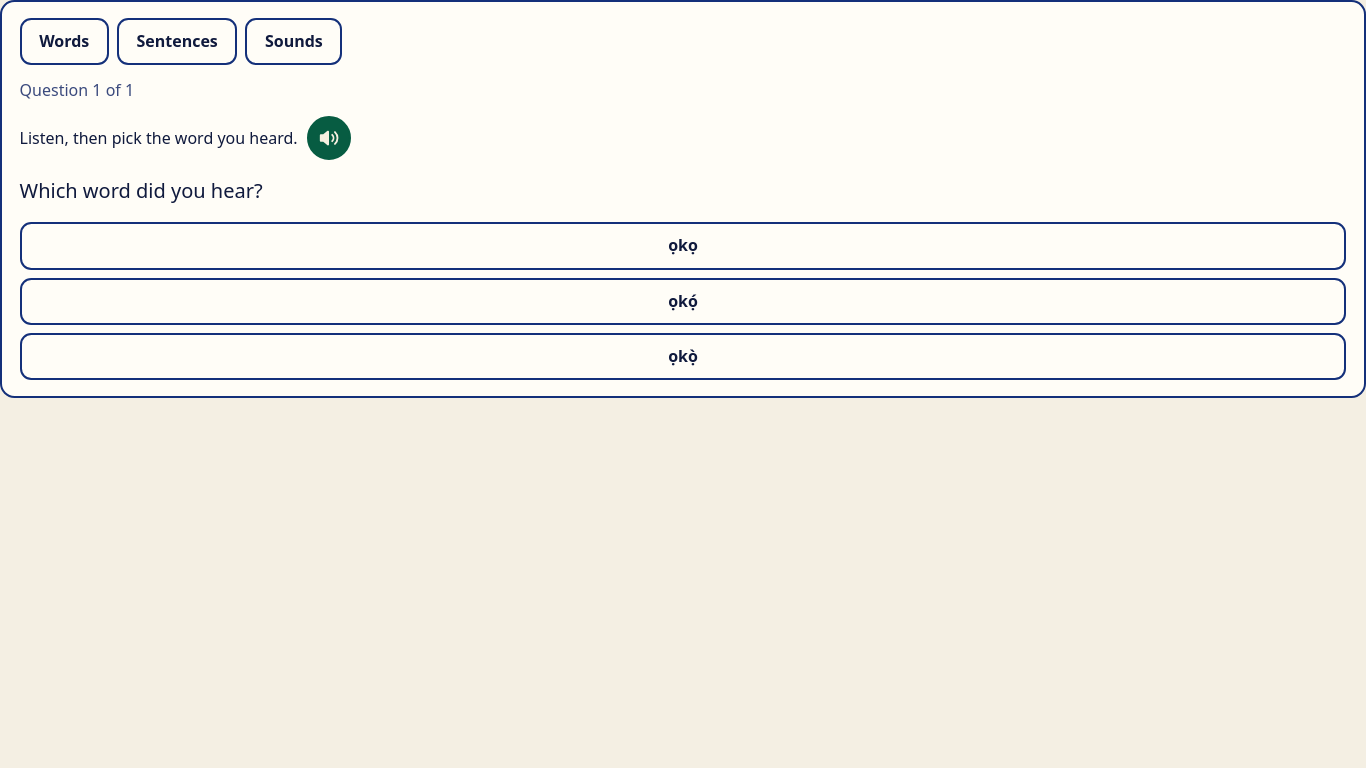
it: TonePractice › marks the correct choice and shows one pitch line for a right answer, two for a wrong one
The image size is (1366, 768).
Later steps or results of the test are not shown.
Click the button with test id "choice" showing "ọkọ̀".
click(683, 356)  # box x1=20 y1=333 x2=1346 y2=380
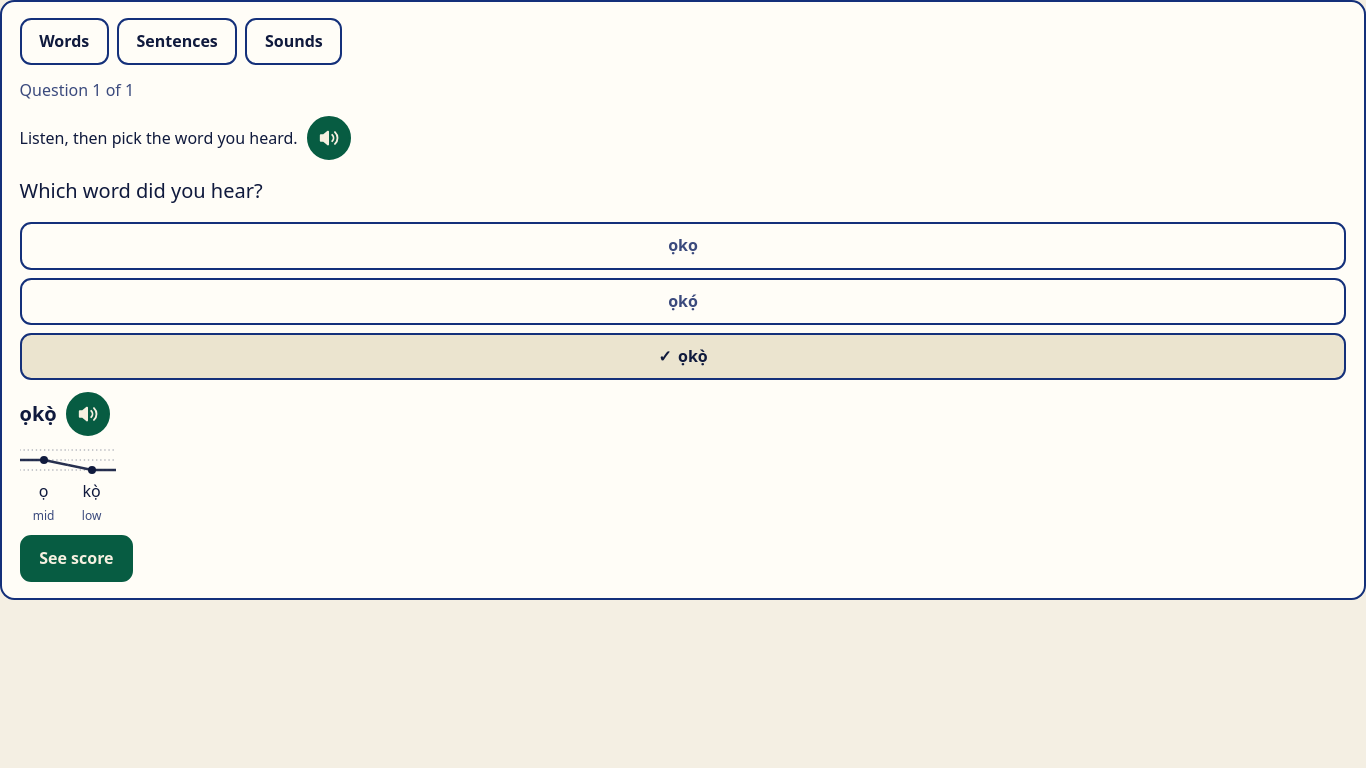
Check: the number of elements named "Pitch pattern for" is 1, box x1=20 y1=444 x2=116 y2=524
